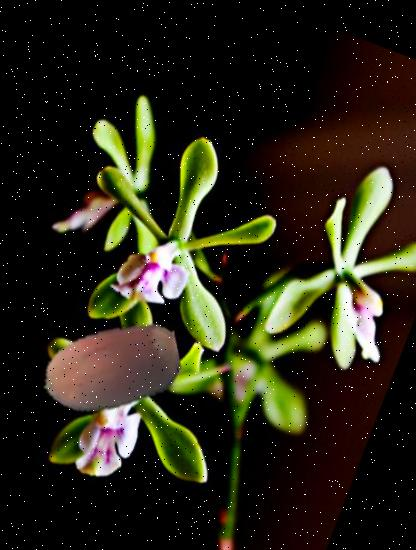Hazelnut: (21, 283, 201, 463)
